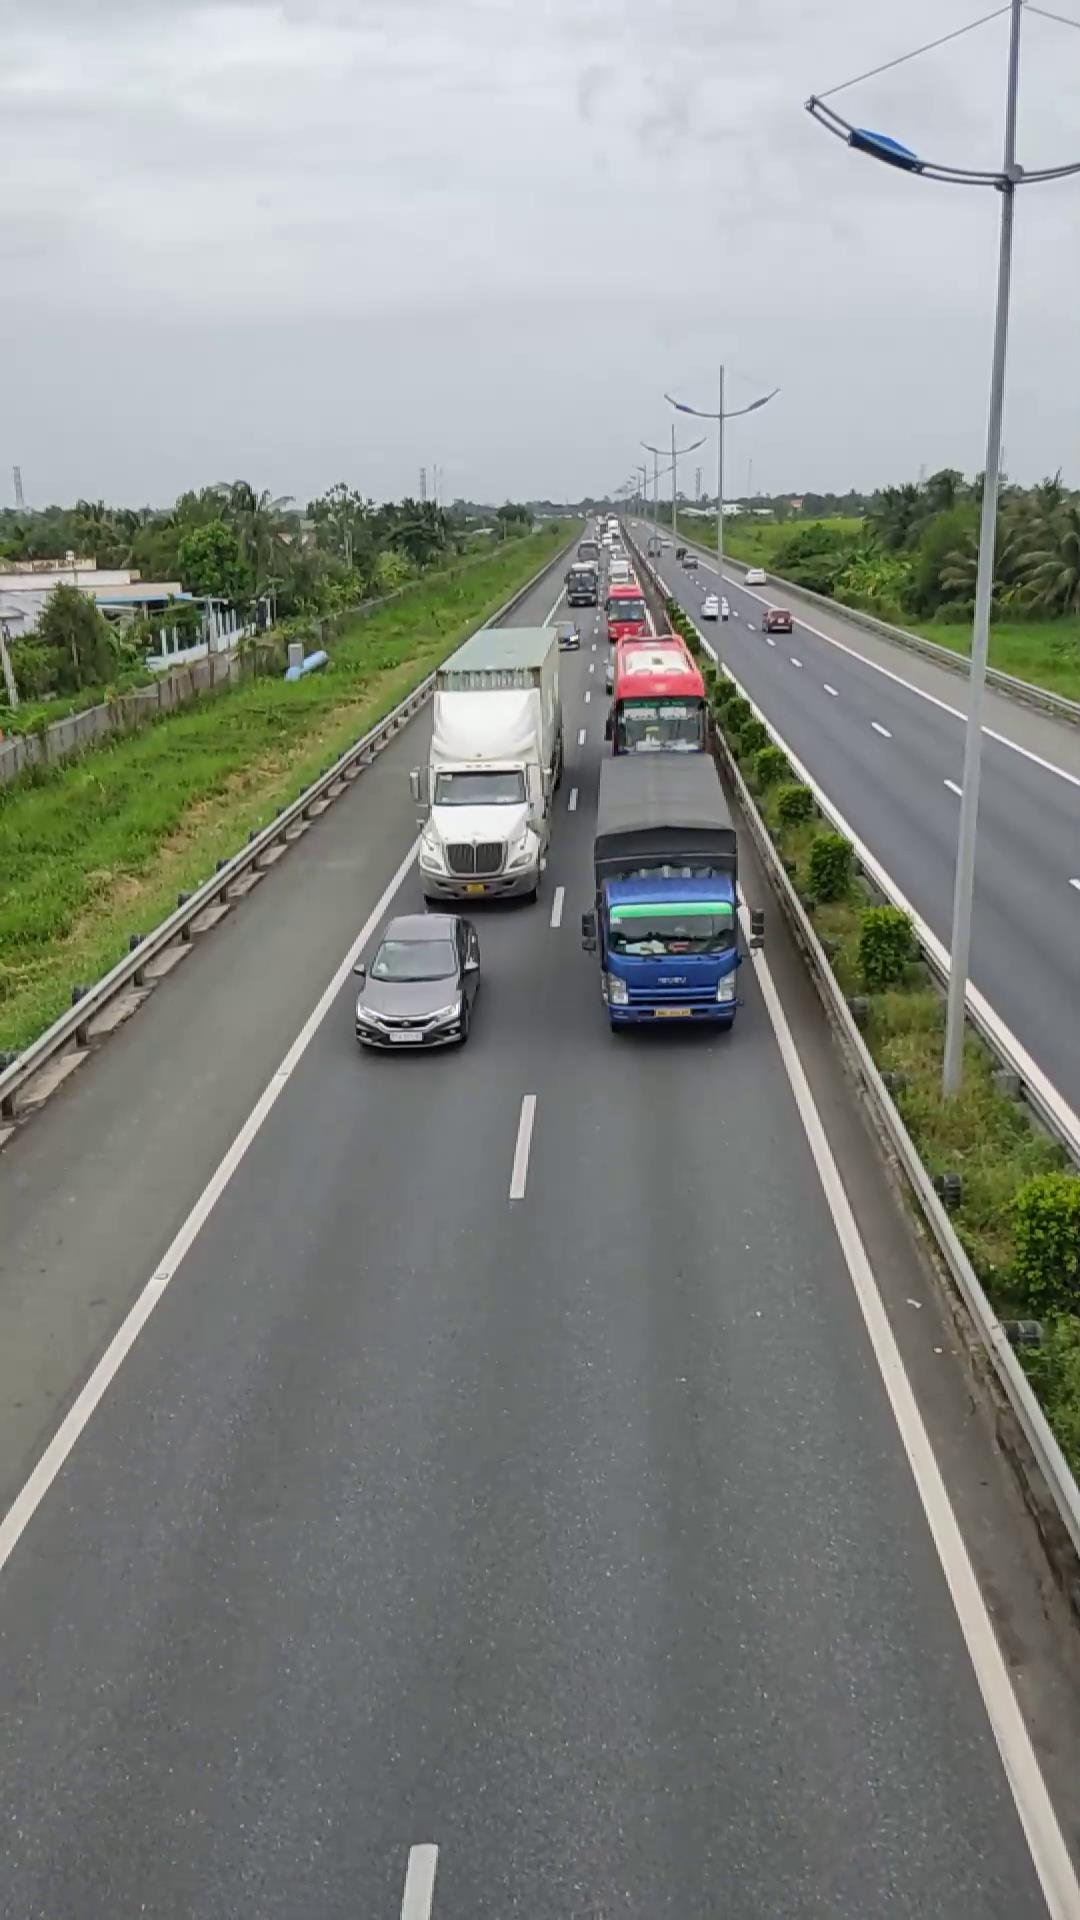car: (352, 909, 483, 1052)
container: (415, 621, 563, 906)
truck: (584, 756, 748, 1033)
